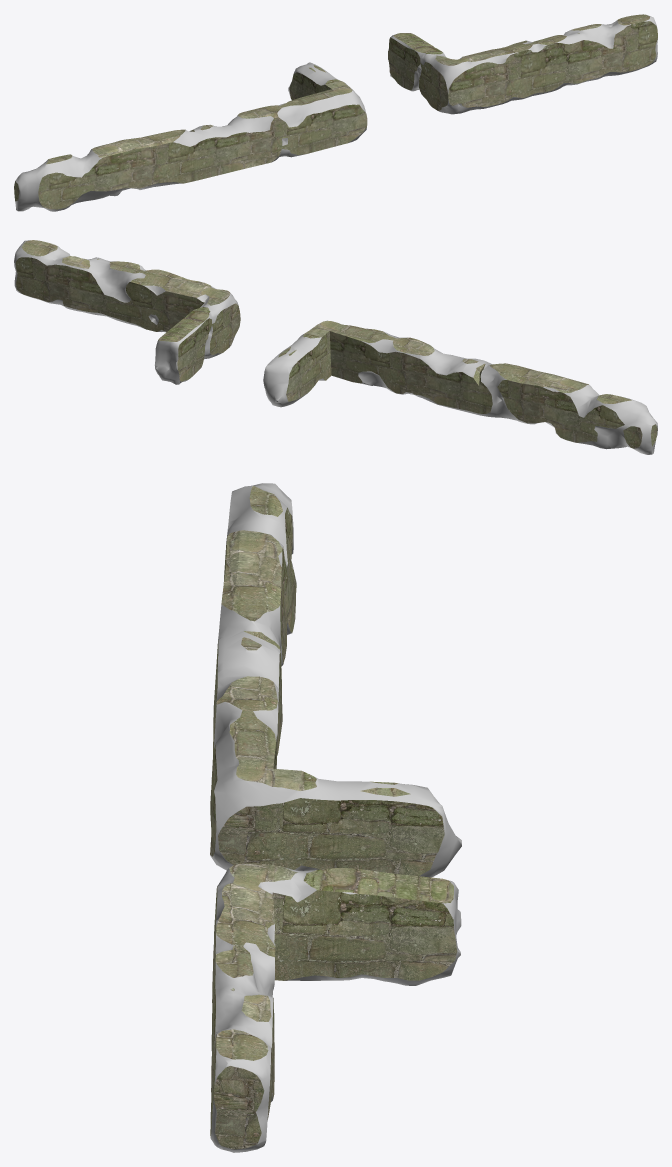
Rendered from SM_Chateaux_06_06.fbx.
3 views of the same model, one above another, from view 1: azimuth 30°, elevation 25°; view 2: azimuth 150°, elevation 25°; view 3: azimuth 270°, elevation 25° (orthographic). The views are drawn at different scales.
Parts seen in each view (by area): view 1: SM_Chateaux_06_06; view 2: SM_Chateaux_06_06; view 3: SM_Chateaux_06_06.
Part boxes in pixels (x1=…): SM_Chateaux_06_06: x1=14, y1=14, x2=657, y2=211; SM_Chateaux_06_06: x1=14, y1=240, x2=657, y2=454; SM_Chateaux_06_06: x1=210, y1=483, x2=461, y2=1152.
Bounding box in the file's own units: 2562 × 212 × 445.
